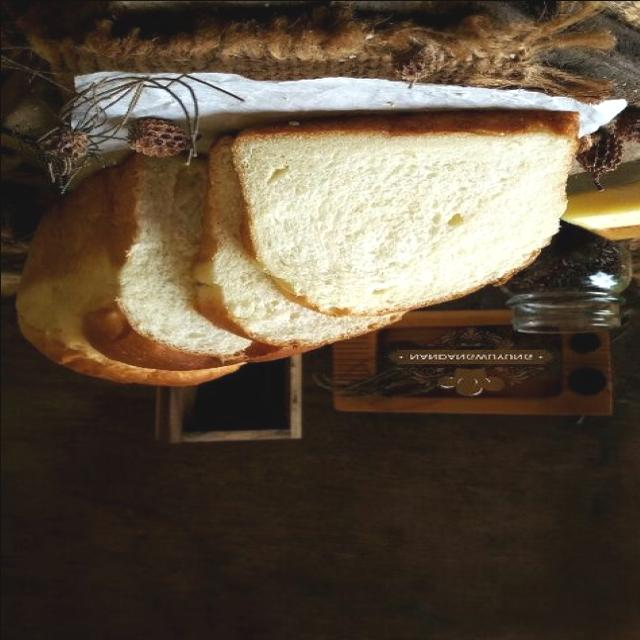roti tawar: (217, 109, 578, 311)
